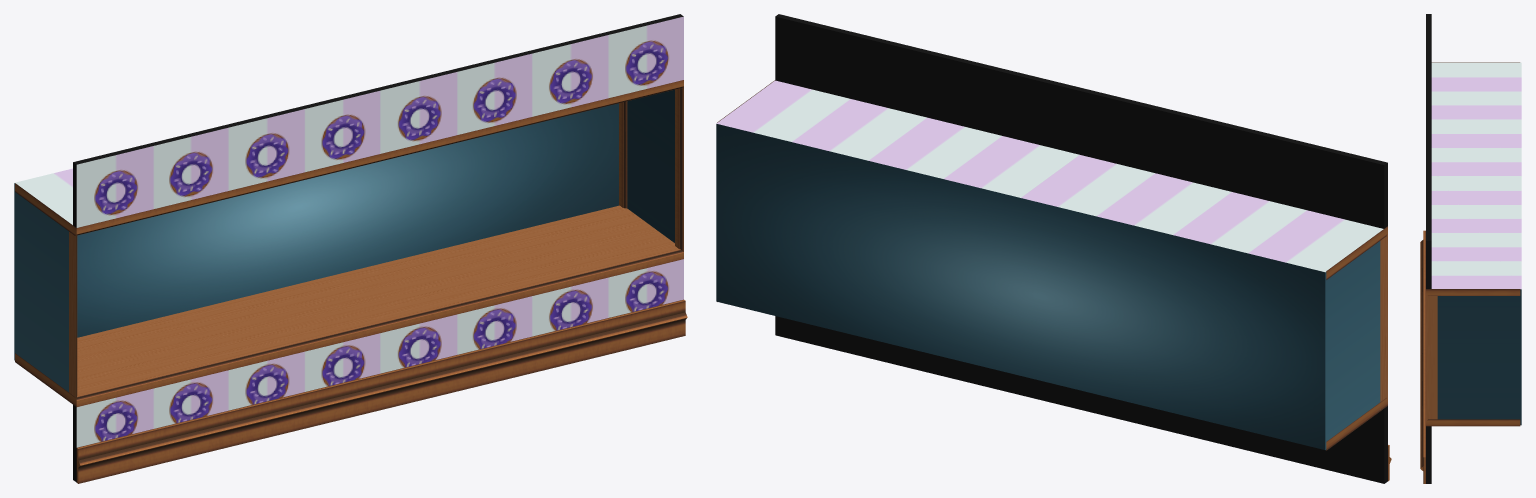
The model's file is Wall_Window__DoubleDisplay_A_02.FBX.
The picture shows the model from 3 angles, left to right: view 1: azimuth 30°, elevation 25°; view 2: azimuth 150°, elevation 25°; view 3: azimuth 270°, elevation 25°; orthographic projection. The views are drawn at different scales.
Visible parts, largest first — view 1: Wall_Window Display; view 2: Wall_Window Display; view 3: Wall_Window Display.
Boxes of the visible parts, x1=… form: Wall_Window Display: x1=14, y1=14, x2=687, y2=483; Wall_Window Display: x1=716, y1=14, x2=1391, y2=483; Wall_Window Display: x1=1420, y1=14, x2=1521, y2=483.
Bounding box in the file's own units: 1000 × 500 × 189.
